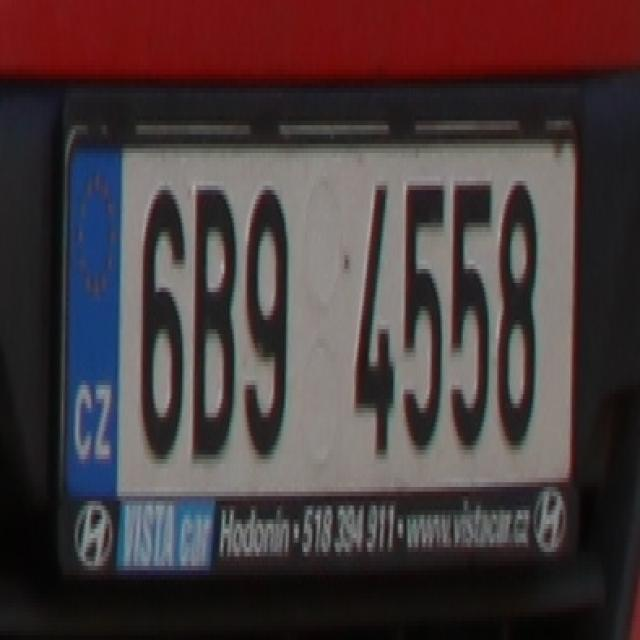4: (349, 172, 393, 464)
5: (448, 172, 492, 464), (398, 176, 443, 459)
6: (136, 181, 184, 459)
8: (496, 162, 538, 454)
9: (242, 181, 289, 478)
B: (188, 176, 234, 464)
